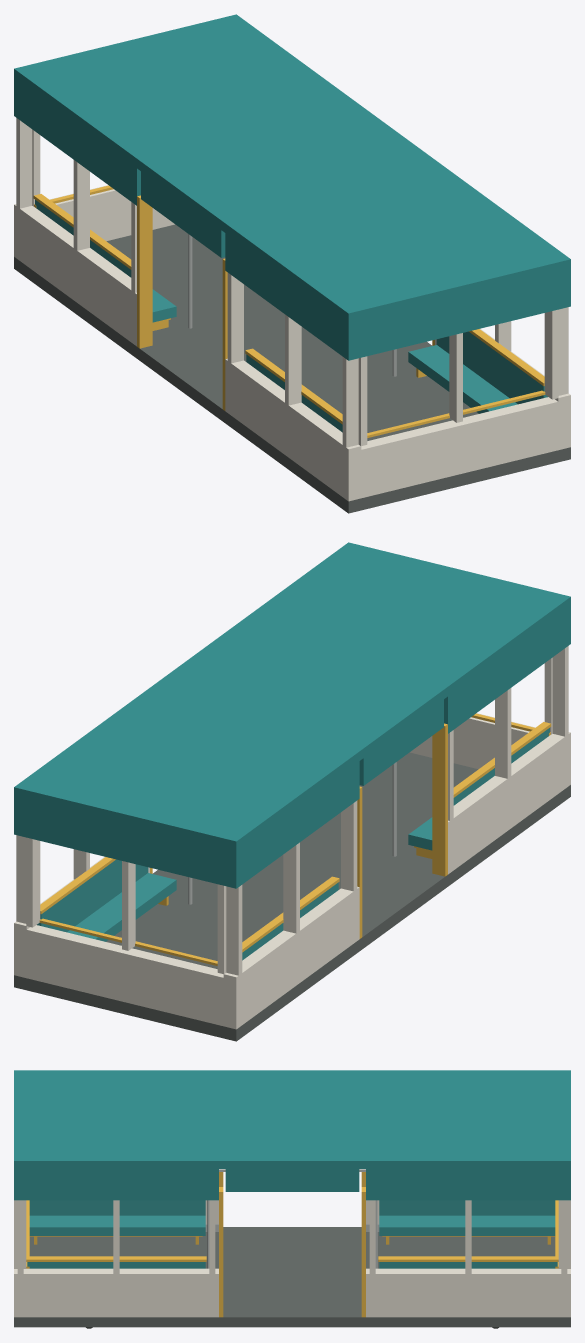
File: passenger_carriage.glb
3 views of the same model, one above another, from view 1: azimuth 30°, elevation 25°; view 2: azimuth 150°, elevation 25°; view 3: azimuth 270°, elevation 25° (orthographic). The views are drawn at different scales.
Visible parts, largest first — view 1: transit/passenger_carriage; view 2: transit/passenger_carriage; view 3: transit/passenger_carriage.
Boxes of the visible parts, left/top/right/bottom form: transit/passenger_carriage: left=14, top=14, right=570, bottom=513; transit/passenger_carriage: left=14, top=542, right=570, bottom=1041; transit/passenger_carriage: left=14, top=1070, right=570, bottom=1328.
Size of the model in its own units: 3.84 by 3.49 by 10.
